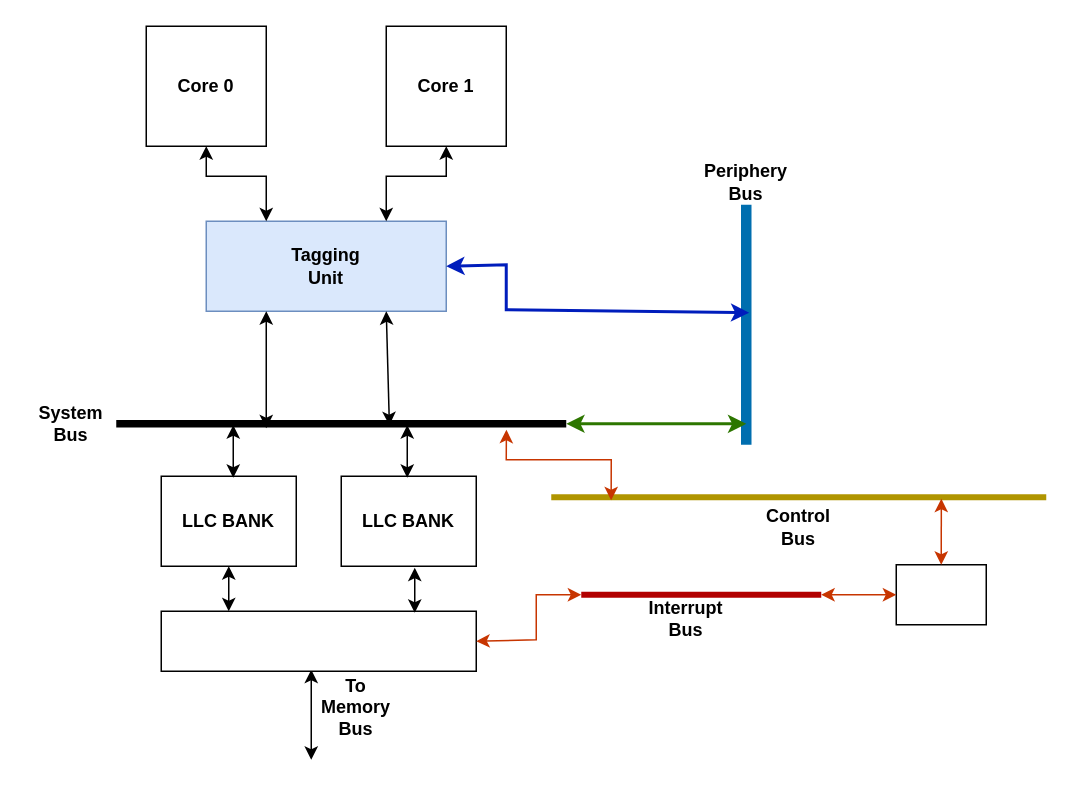
Image size: 1074x800. Some labels were removed from this diagram. Here are the shapes that lost their labels. From the top down, the centre of each, then its label:
the point at 940,594: PLIC
the point at 318,640: DRAM ACCESS COUNTERS
